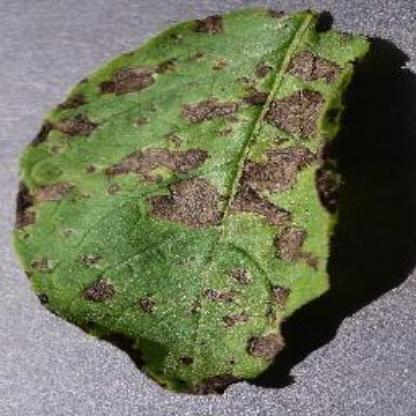Early-Blight: (14, 6, 366, 396)
